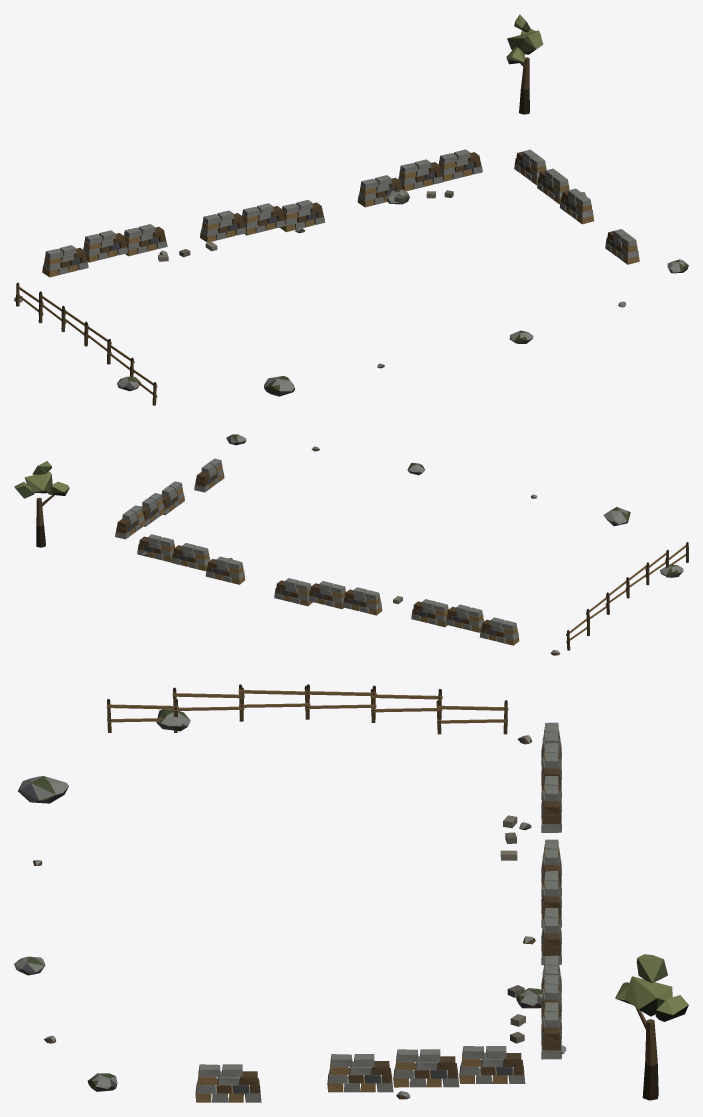
Rendered from greyback_hills.glb.
3 views of the same model, one above another, from view 1: azimuth 30°, elevation 25°; view 2: azimuth 150°, elevation 25°; view 3: azimuth 270°, elevation 25° (orthographic). The views are drawn at different scales.
Visible parts, largest first — view 1: greyback_hills; view 2: greyback_hills; view 3: greyback_hills.
Boxes of the visible parts, <box> form: greyback_hills: <box>14,14,688,405</box>; greyback_hills: <box>14,434,688,655</box>; greyback_hills: <box>14,684,688,1102</box>.
Size of the model in its own units: 30.18 by 5.82 by 20.47.
